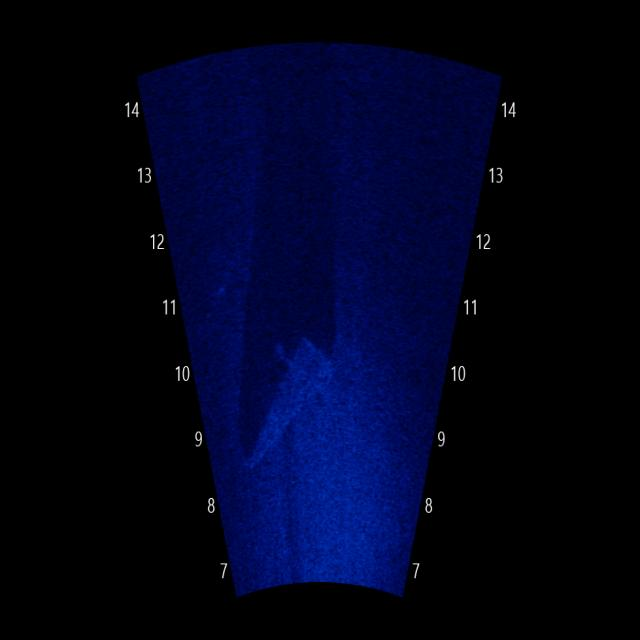triangle: (231, 334, 344, 471)
